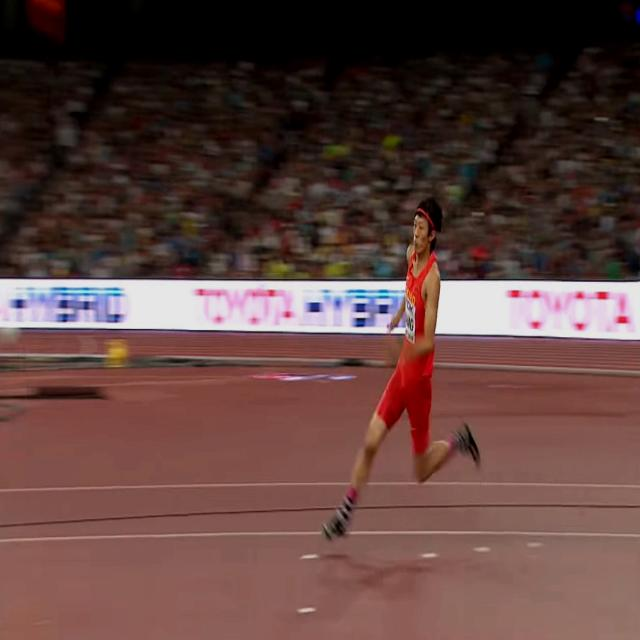run: (316, 197, 479, 543)
